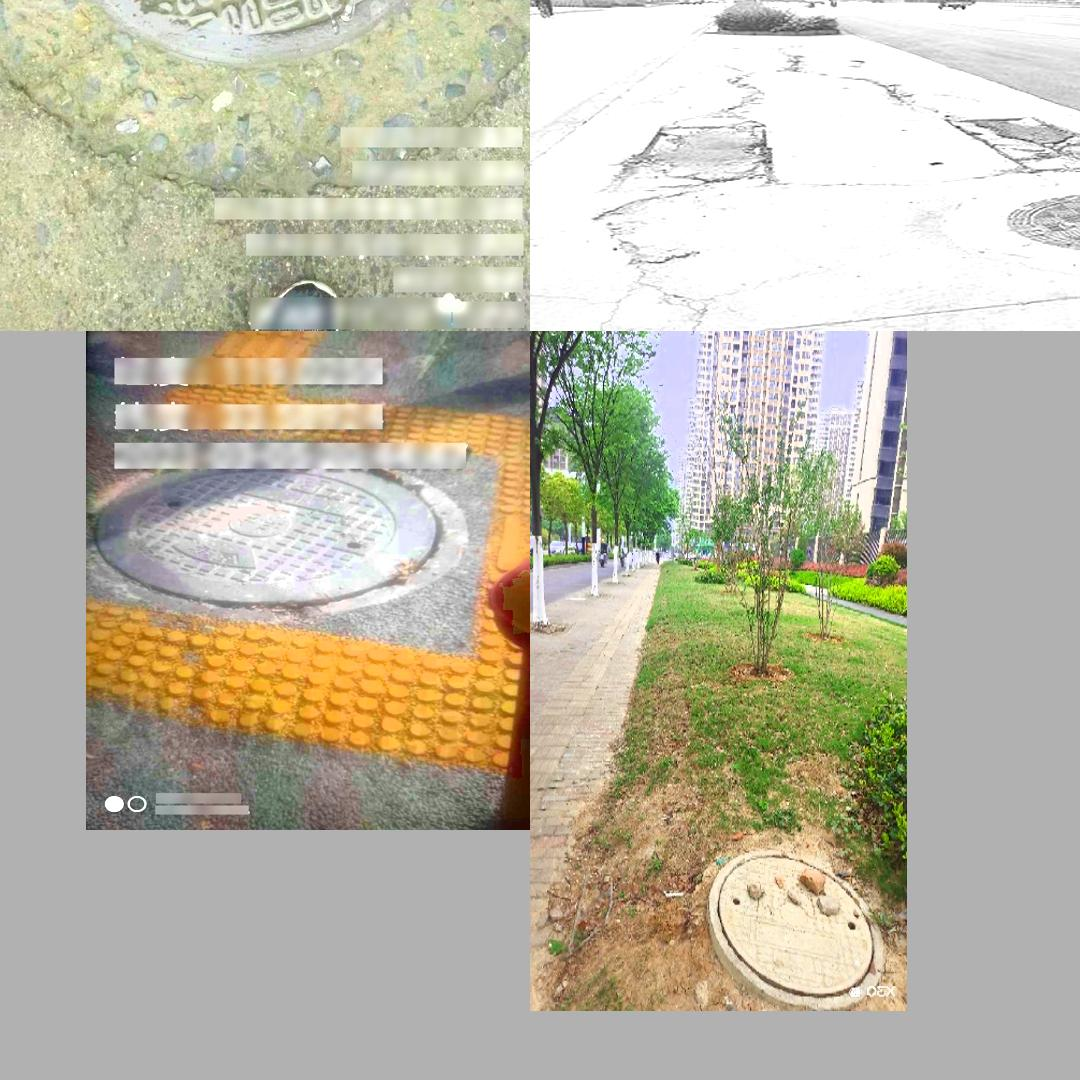good: (103, 427, 467, 620), (35, 0, 465, 70), (707, 849, 885, 1005), (946, 181, 1080, 279)
